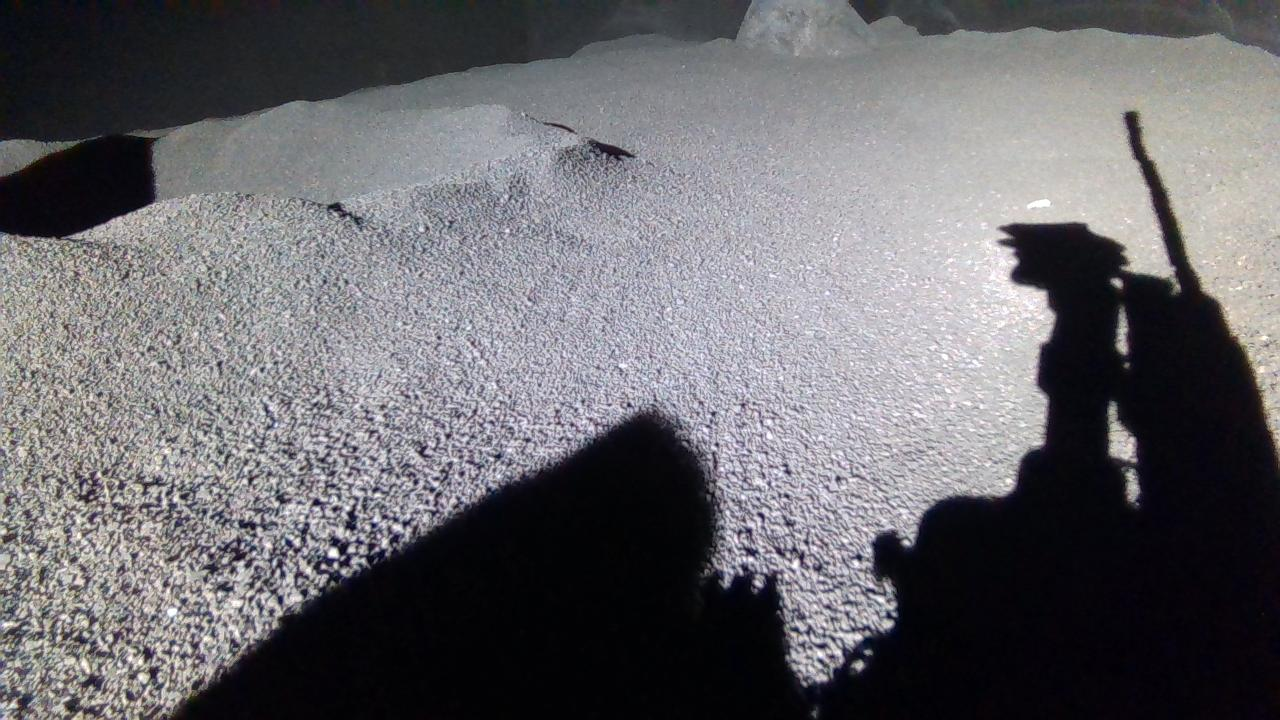rock: (737, 0, 879, 54)
